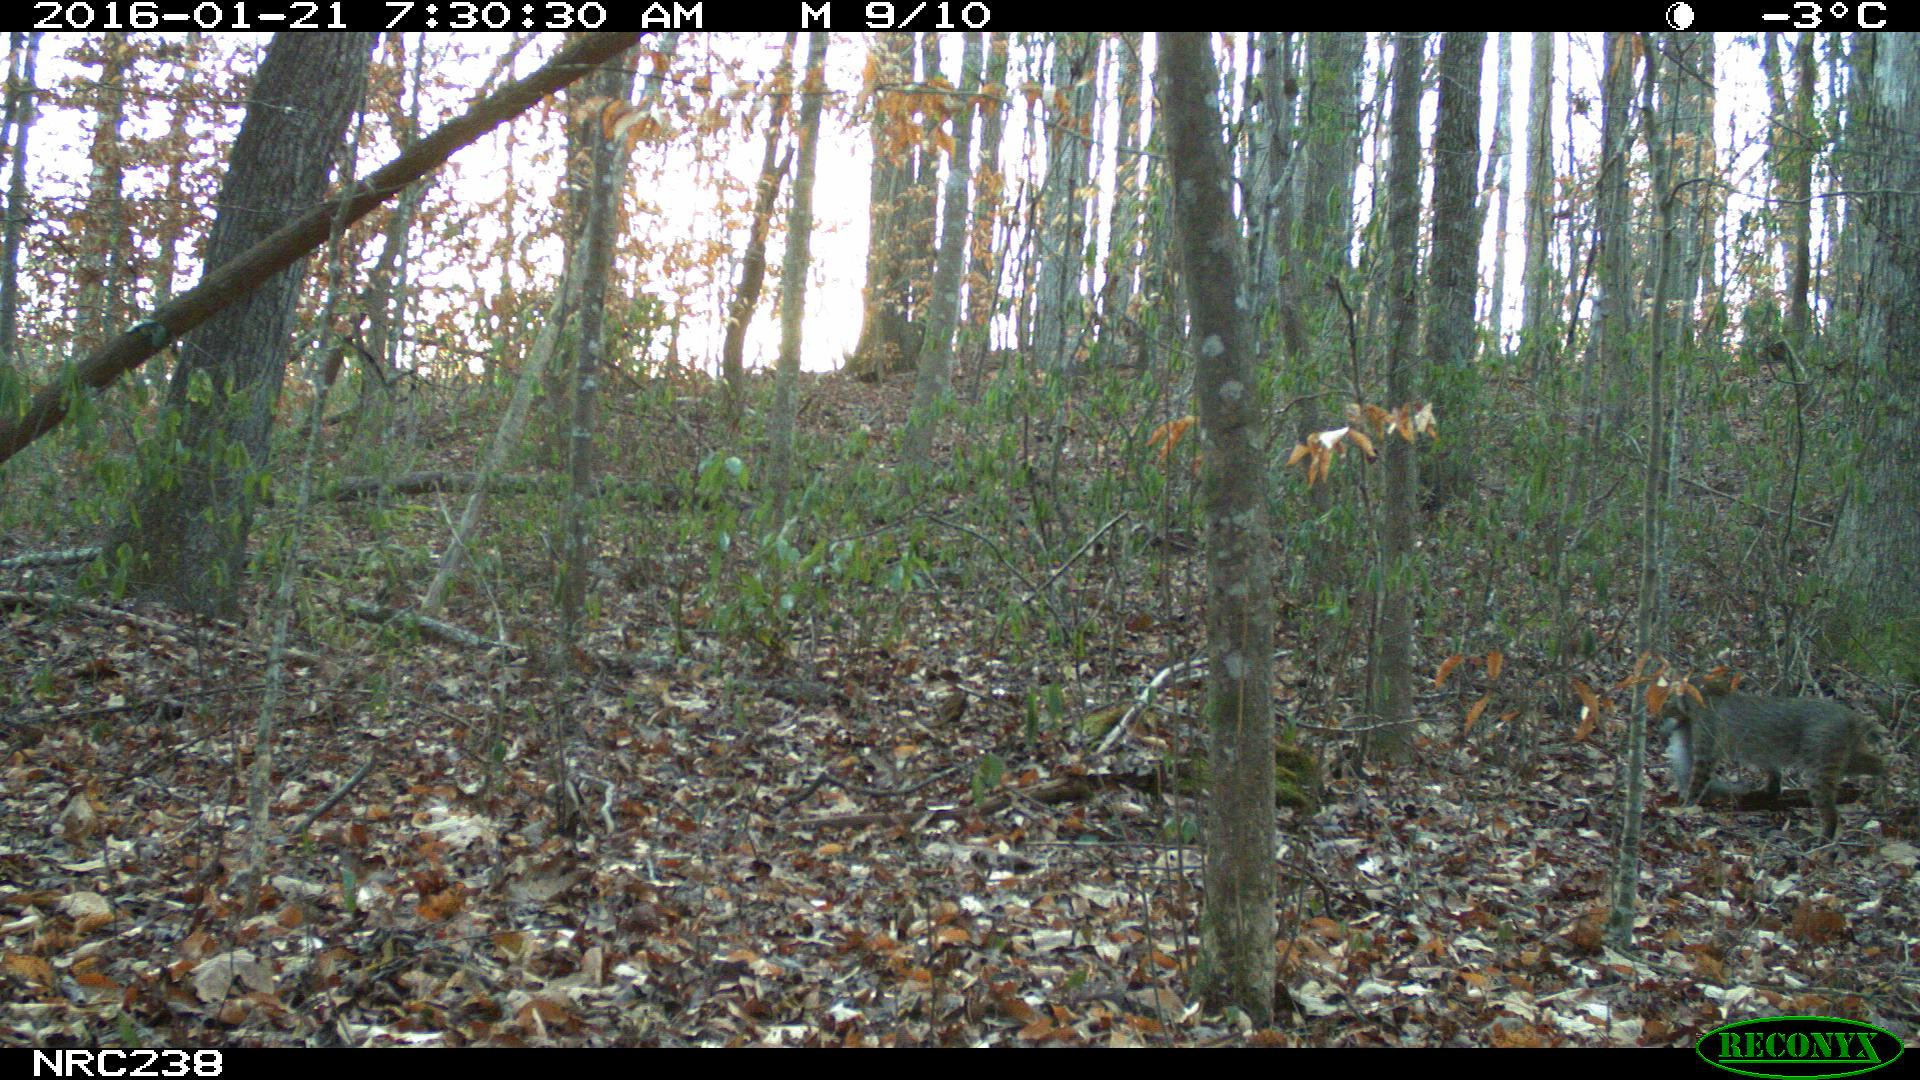Animal: (1652, 684, 1891, 845)
